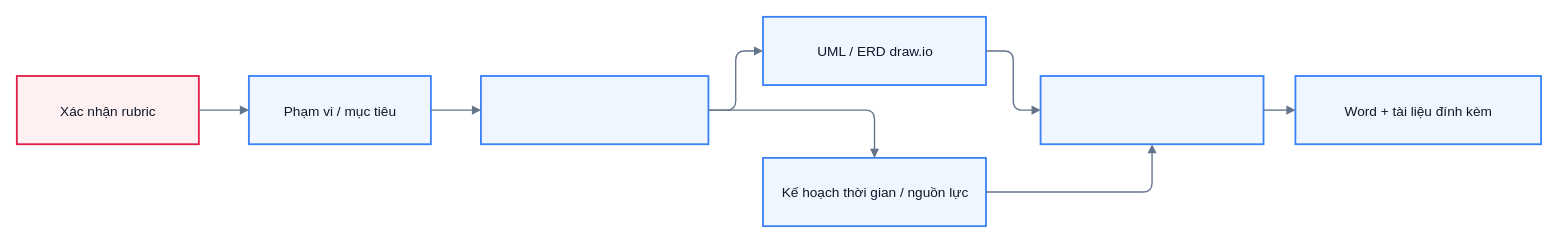
This 1557x242 diagram has some shape labels left out. Each missing label, with the centre of its shape:
"Kiểm tra sơ đồ, nội dung" goes at (1151,110).
"WBS và phân công Trello" goes at (594,110).
